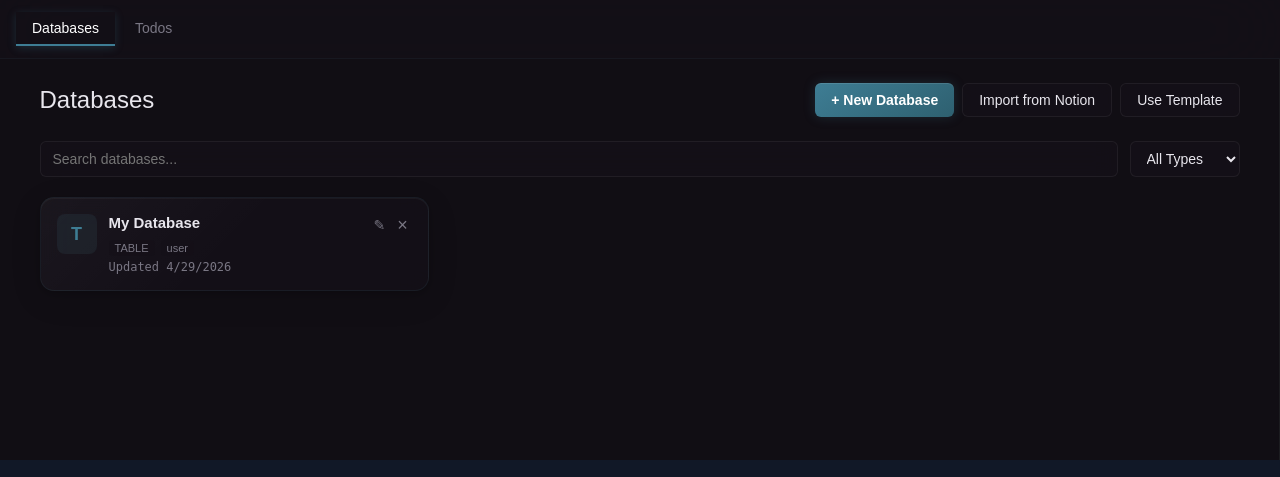
DataManagerPage › navigates to TableView when a database is selected
Step 1. Click the element with test id "database-card-db-1" → (234, 244), box [40,197,429,291]
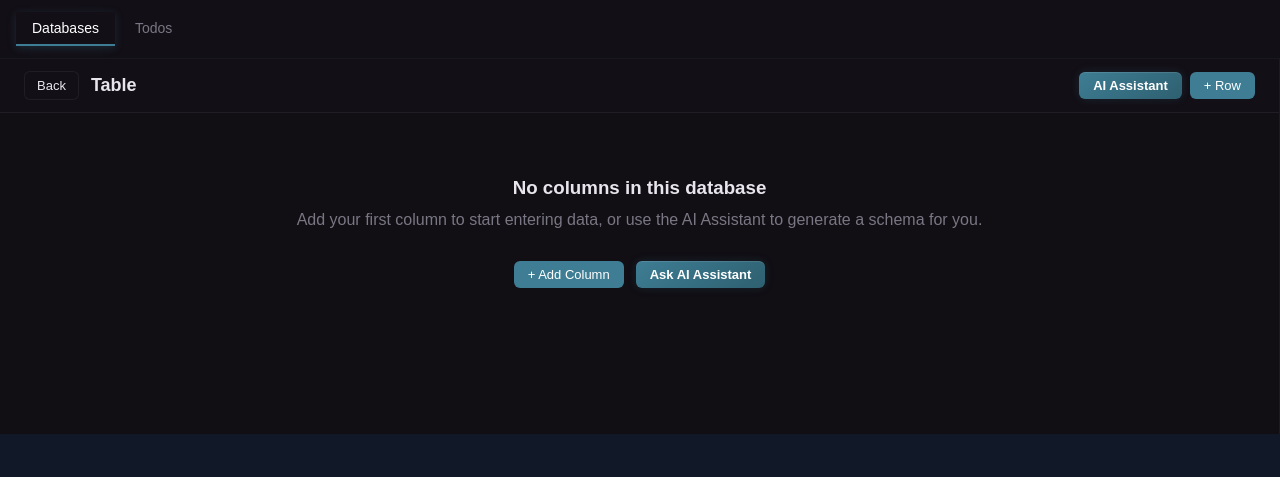
Expected: the element with test id "table-view" is shown
Expected: the element with test id "database-list" is gone
